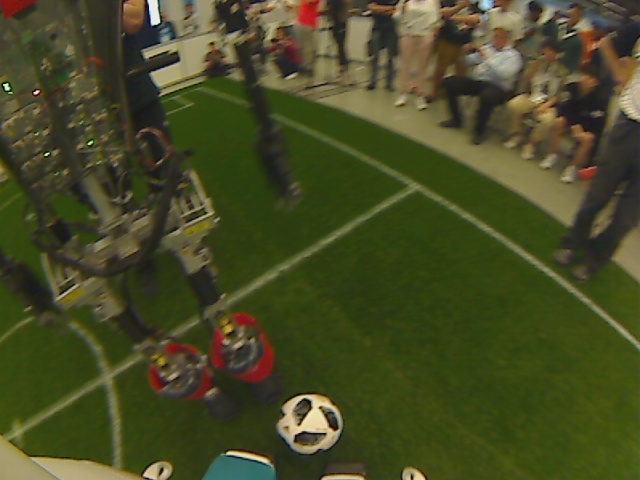ball: (273, 390, 347, 457)
robot: (1, 1, 302, 420)
